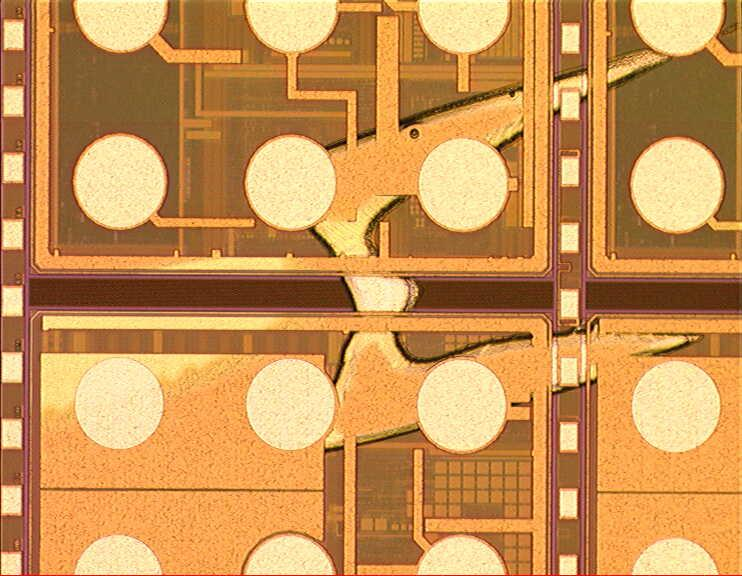COATING BAD: (274, 23, 742, 456)
